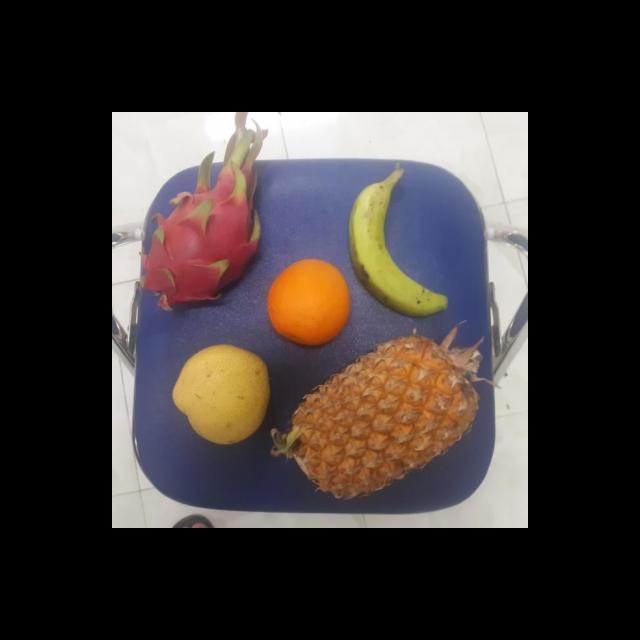banana: (348, 176, 451, 315)
orange: (265, 259, 350, 345)
pear: (170, 344, 276, 446)
pineapple: (284, 337, 491, 501)
pitaya: (142, 174, 271, 314)
